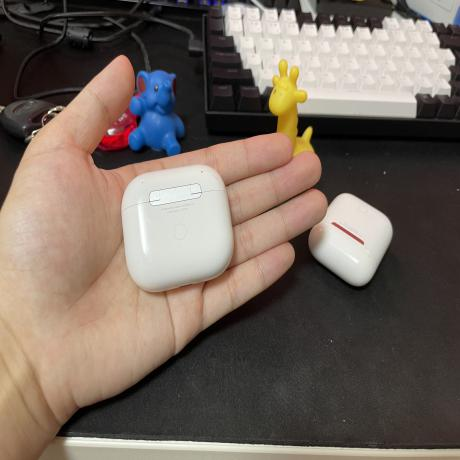airpod2: (302, 181, 395, 291)
airpod3: (112, 164, 240, 294)
